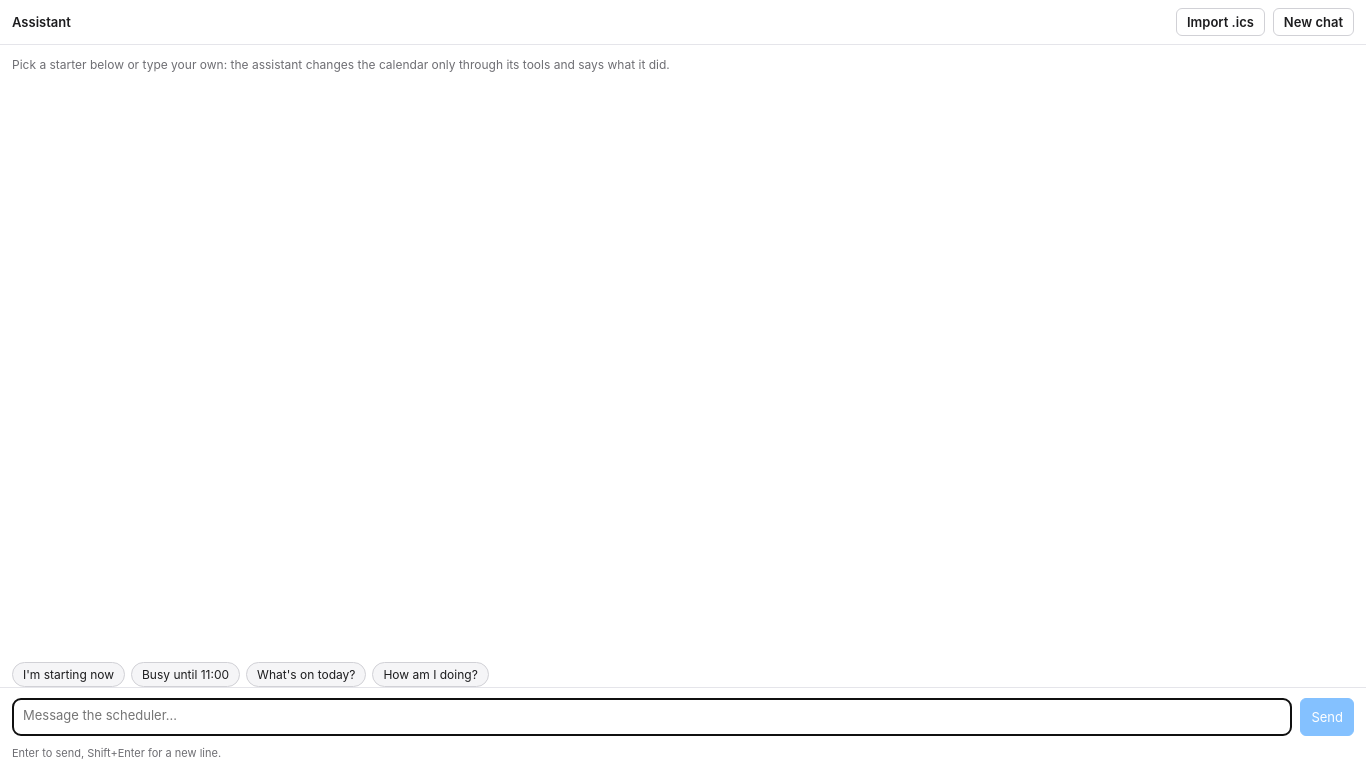
Test: ChatPanel: a streamed reply › a shift that asked first is labelled "Asked before shifting: …"
In the text box with placeholder "Message the scheduler…": x=652, y=717 left=12, top=698, right=1292, bottom=736, type "I'm late"
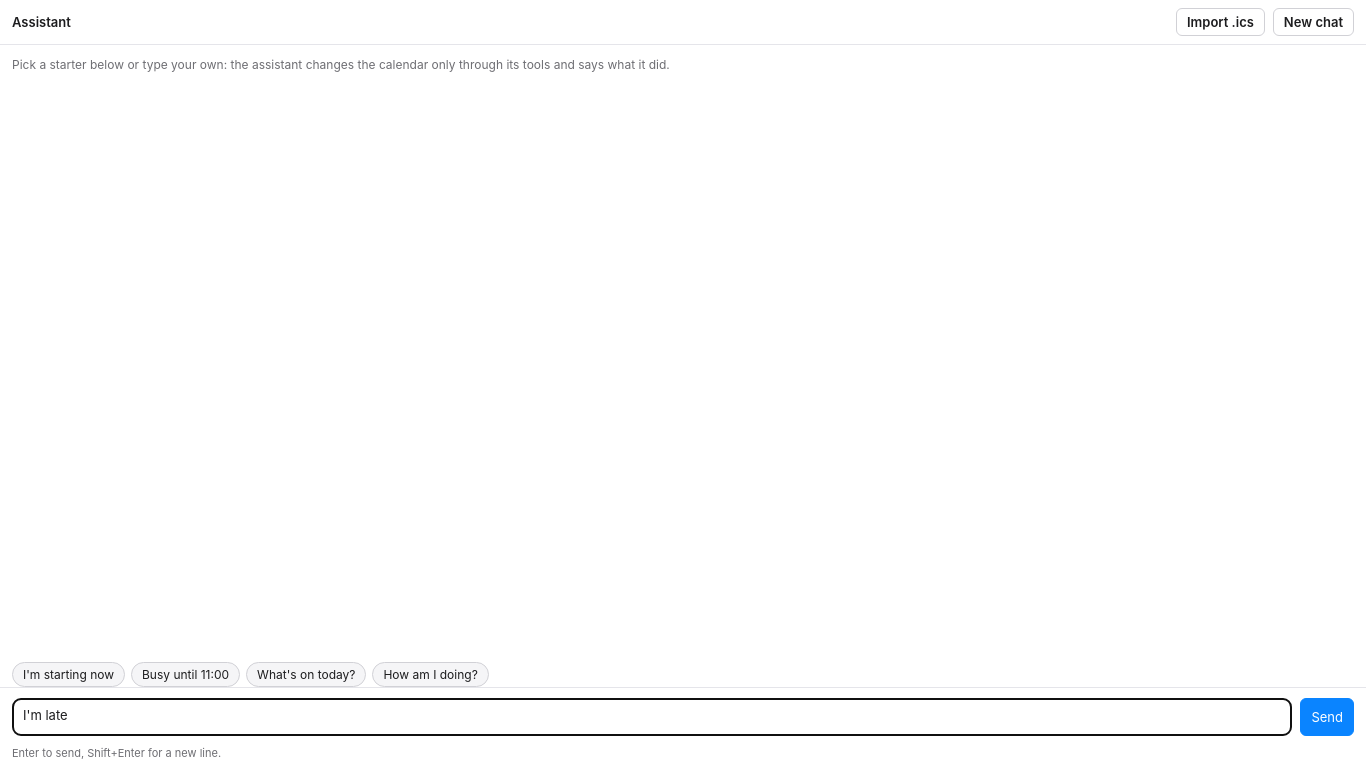
Click the button "Send": x=1327, y=717 left=1300, top=698, right=1354, bottom=736
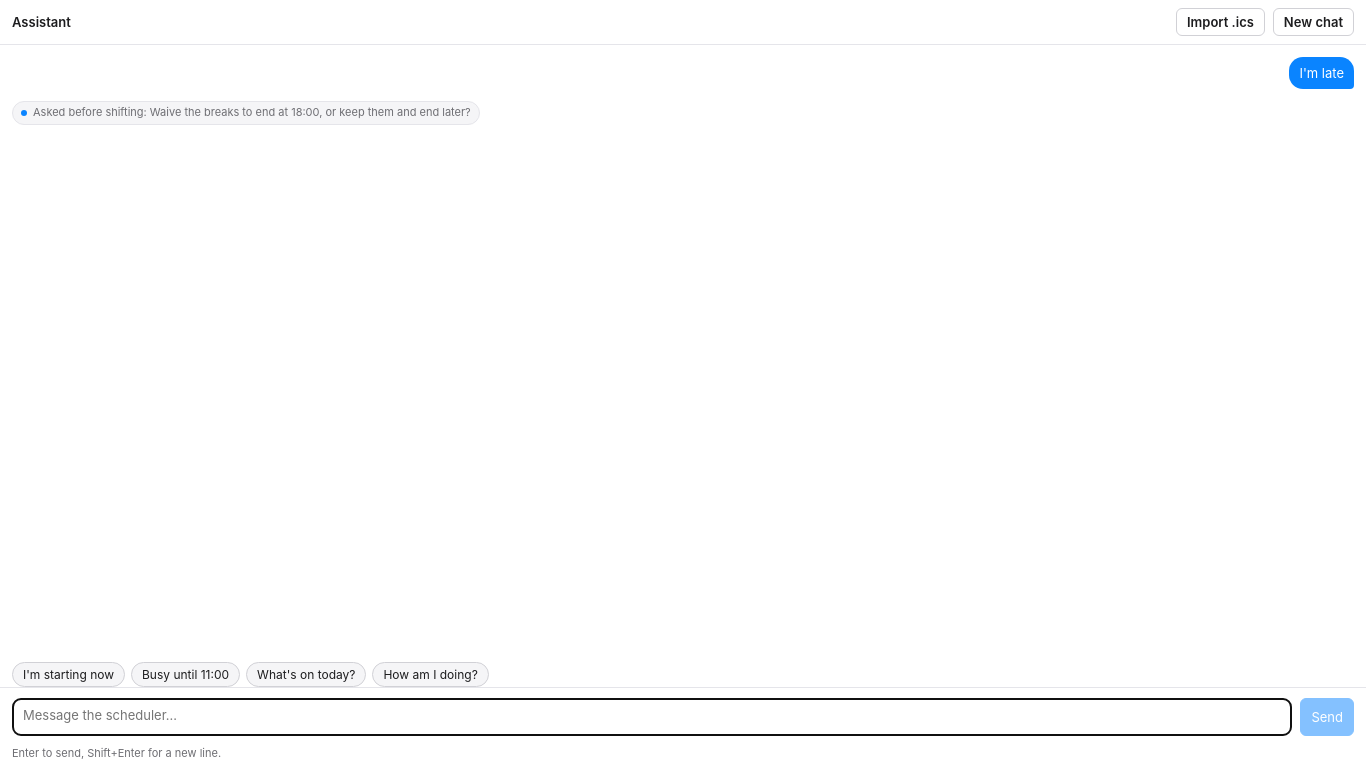
Expected: the text "Asked before shifting: Waive the breaks to end at 18:00, or keep them and end later?" is shown, left=33, top=105, right=471, bottom=119
